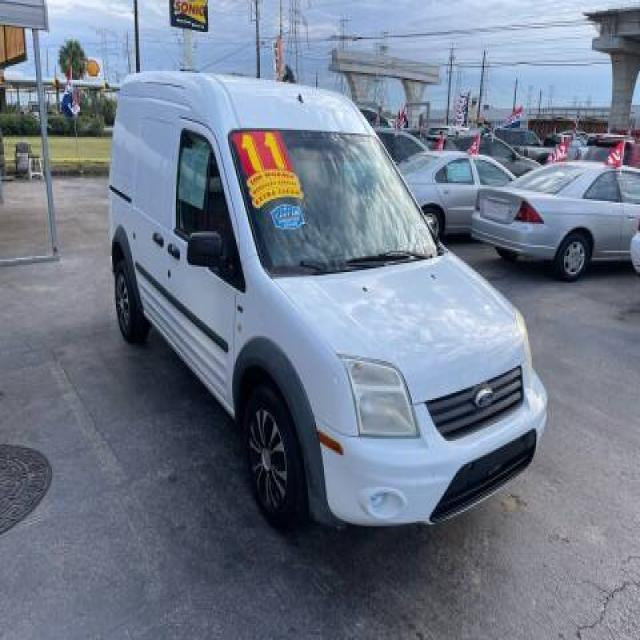truck: (105, 66, 548, 534)
